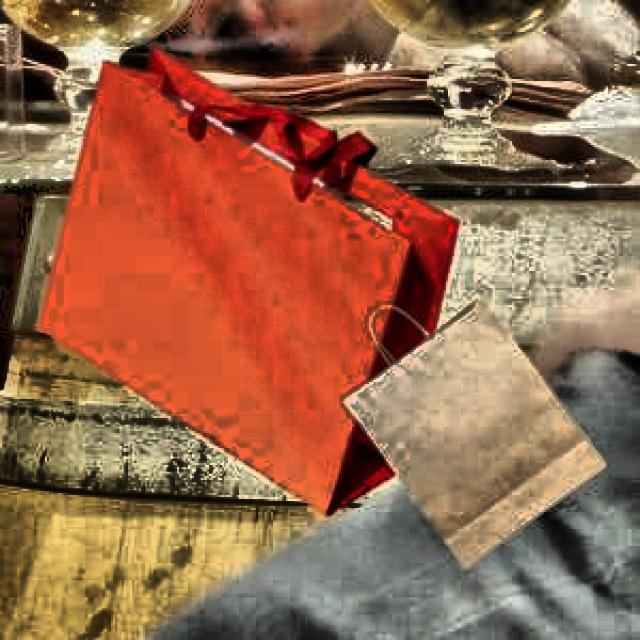Paper-bag: (28, 49, 472, 532), (348, 299, 614, 562)
